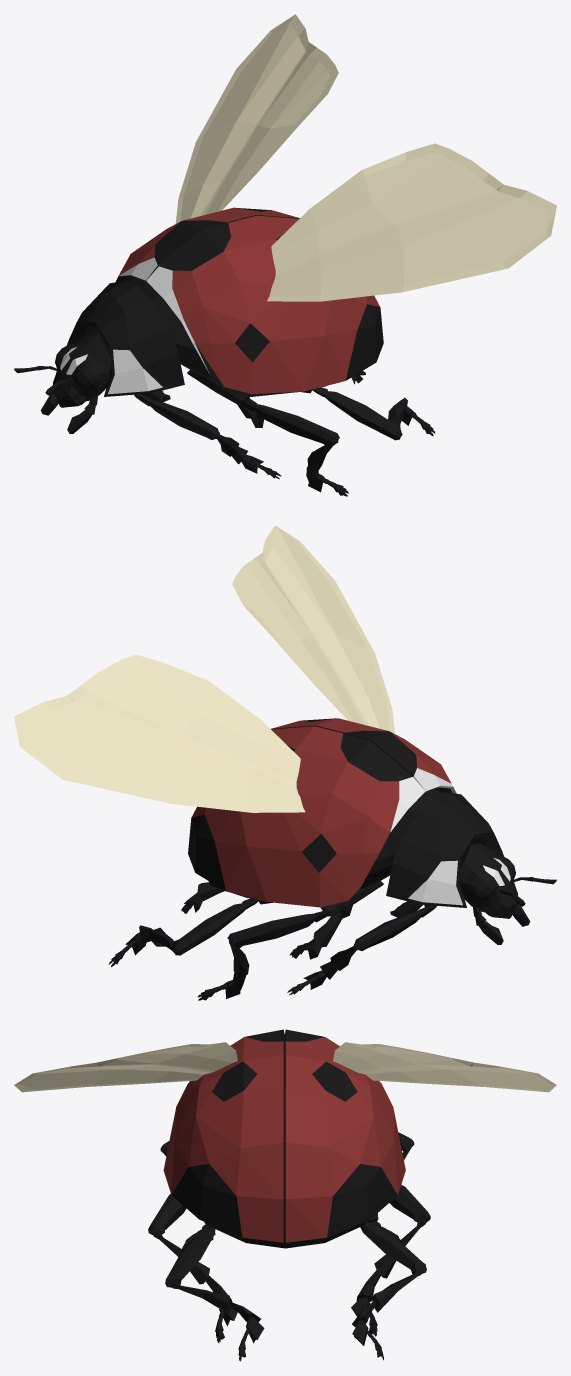
File: ladybug.fbx
3 renders of one model, top to bottom at view 1: azimuth 30°, elevation 25°; view 2: azimuth 150°, elevation 25°; view 3: azimuth 270°, elevation 25°, orthographic. The views are drawn at different scales.
Visible parts, largest first — view 1: wingright, shella, wingleft, ladybody, ladyhead, shellb, Left_Leg_02.196, Left_Leg_02.195, Left_Leg_02.199; view 2: wingleft, shellb, wingright, ladybody, ladyhead, shella, Left_Leg_02.198, Left_Leg_02.194, Left_Leg_02.197, Left_Leg_03.034; view 3: shella, shellb, wingleft, wingright, Left_Leg_02.195, Left_Leg_02.194, ladybody, Left_Leg_03.033, Left_Leg_03.036, Left_Leg_03.032, Left_Leg_02.196, Left_Leg_02.198 (+3 smaller).
Boxes of the visible parts, <box> form: wingright: <box>267,143,556,301</box>; shella: <box>146,215,383,396</box>; wingleft: <box>175,14,338,223</box>; ladybody: <box>67,277,360,396</box>; ladyhead: <box>14,332,111,433</box>; shellb: <box>115,207,299,282</box>; Left_Leg_02.196: <box>241,398,339,447</box>; Left_Leg_02.195: <box>312,387,402,440</box>; Left_Leg_02.199: <box>136,394,218,439</box>; wingleft: <box>14,654,305,812</box>; shellb: <box>188,726,425,907</box>; wingright: <box>232,525,394,733</box>; ladybody: <box>208,787,503,907</box>; ladyhead: <box>459,843,556,944</box>; shella: <box>271,718,456,793</box>; Left_Leg_02.198: <box>227,910,329,949</box>; Left_Leg_02.194: <box>172,898,258,955</box>; Left_Leg_02.197: <box>355,905,434,950</box>; Left_Leg_03.034: <box>313,905,352,947</box>; shella: <box>163,1029,284,1242</box>; shellb: <box>285,1029,405,1242</box>; wingleft: <box>333,1042,556,1092</box>; wingright: <box>14,1042,237,1092</box>; Left_Leg_02.195: <box>165,1225,215,1287</box>; Left_Leg_02.194: <box>360,1221,426,1274</box>; ladybody: <box>204,1034,366,1248</box>; Left_Leg_03.033: <box>170,1282,260,1322</box>; Left_Leg_03.036: <box>356,1219,425,1301</box>; Left_Leg_03.032: <box>352,1269,422,1327</box>; Left_Leg_02.196: <box>148,1194,186,1235</box>; Left_Leg_02.198: <box>389,1185,430,1222</box>.
Bounding box in the file's own units: 217 × 180 × 265.
